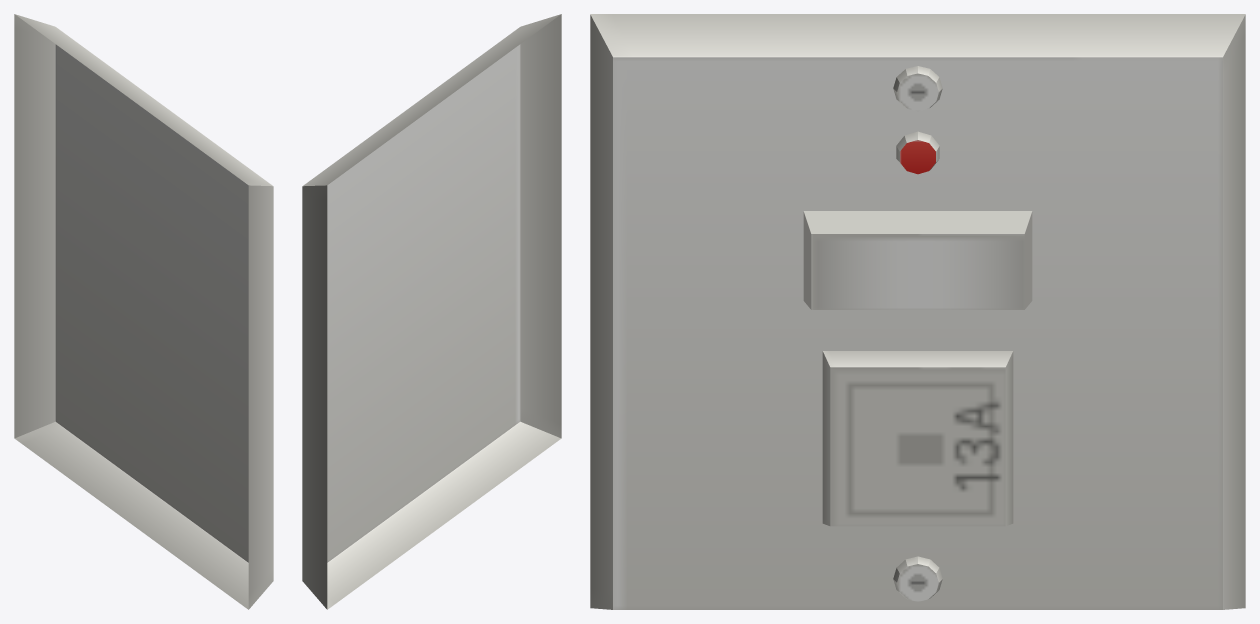
Rendered from ukfusedspur.obj.
The picture shows the model from 3 angles, left to right: view 1: azimuth 30°, elevation 25°; view 2: azimuth 150°, elevation 25°; view 3: azimuth 270°, elevation 25°; orthographic projection. The views are drawn at different scales.
Parts seen in each view (by area): view 1: main; view 2: main; view 3: main, lever.
Boxes of the visible parts, x1=… form: main: x1=14, y1=14, x2=273, y2=609; main: x1=302, y1=14, x2=561, y2=609; main: x1=590, y1=14, x2=1245, y2=609; lever: x1=803, y1=211, x2=1032, y2=309.
Size of the model in its own units: 0.048 by 0.344 by 0.344.
Materials: 1 (1 with a texture image).
